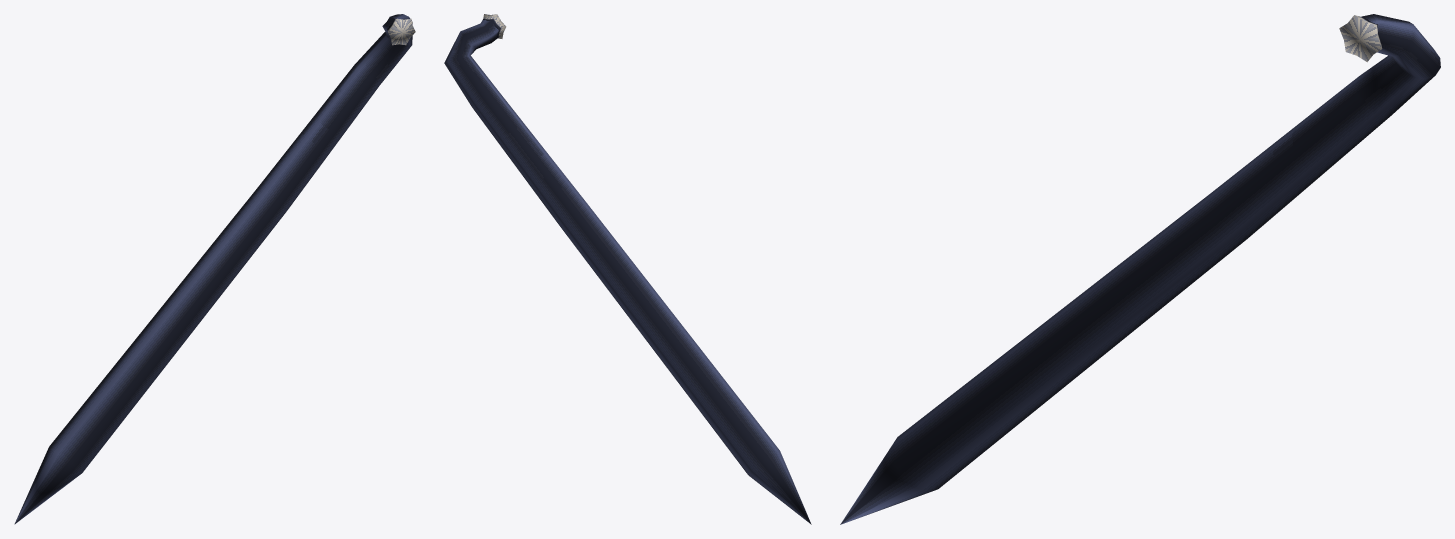
File: blade_hand.glb
3 views of the same model, side by side, from view 1: azimuth 30°, elevation 25°; view 2: azimuth 150°, elevation 25°; view 3: azimuth 330°, elevation 25° (orthographic). The views are drawn at different scales.
Parts seen in each view (by area): view 1: arm; view 2: arm; view 3: arm.
Part boxes in pixels (x1,y1,x2,y2): arm: (14, 14, 415, 524); arm: (444, 14, 811, 524); arm: (840, 14, 1440, 524).
Bounding box in the file's own units: 1.97 × 2.1 × 0.31.
1 material, 1 textured.
